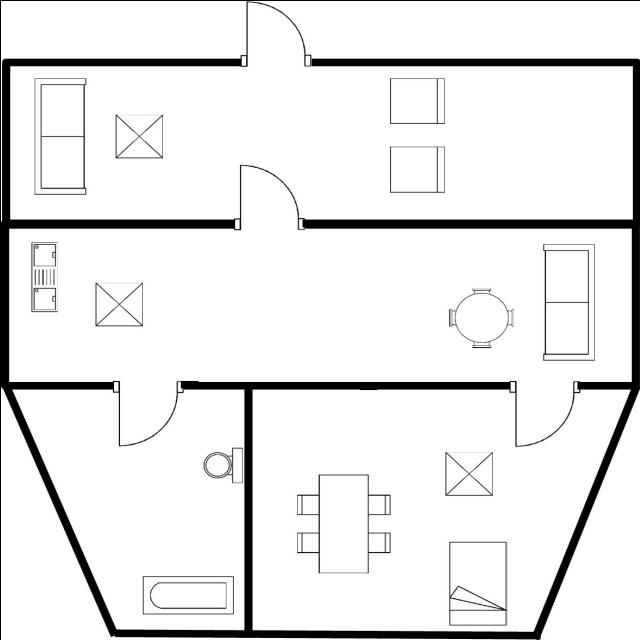bed: (443, 537, 513, 629)
coffee_table: (436, 446, 499, 500), (108, 109, 168, 164), (90, 276, 150, 330)
dining_table: (293, 465, 395, 577)
large_sink: (198, 445, 245, 488)
large_sofa: (26, 74, 94, 202), (534, 235, 600, 364)
round_table: (443, 282, 518, 354)
small_sofa: (384, 142, 452, 198), (384, 73, 451, 127)
tub: (132, 571, 240, 617)
twin_sink: (23, 238, 62, 316)
